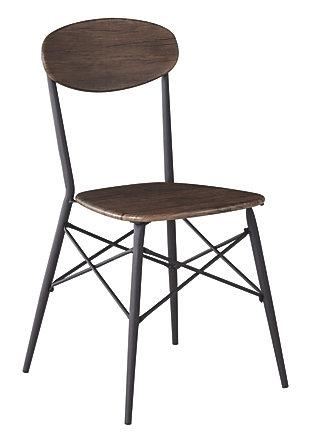chair: (15, 14, 299, 431)
